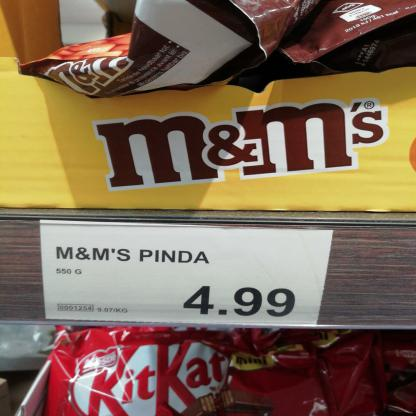prtg: (42, 220, 336, 329)
